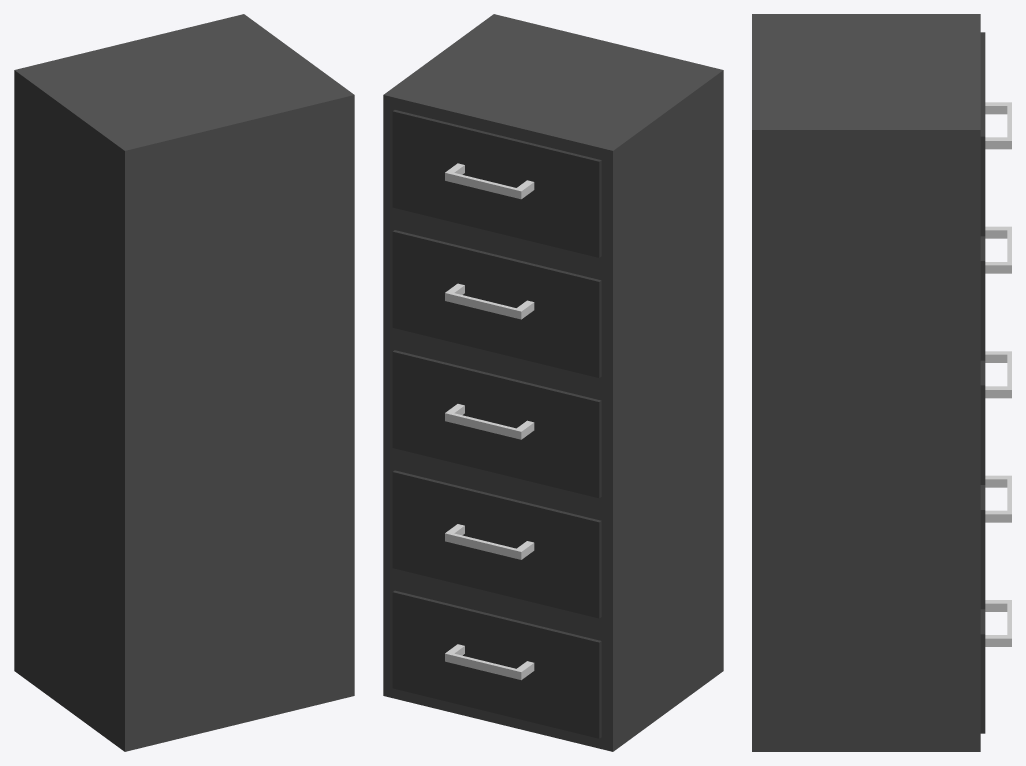
The model's file is TallCabinetTextured_v1.fbx.
3 renders of one model, left to right at view 1: azimuth 30°, elevation 25°; view 2: azimuth 150°, elevation 25°; view 3: azimuth 270°, elevation 25°, orthographic. The views are drawn at different scales.
Parts seen in each view (by area): view 1: Cabinet_Tall; view 2: Cabinet_Tall; view 3: Cabinet_Tall.
Boxes of the visible parts, <box> form: Cabinet_Tall: <box>14,14,354,751</box>; Cabinet_Tall: <box>383,14,723,751</box>; Cabinet_Tall: <box>752,14,1011,751</box>.
Bounding box in the file's own units: 1.5 × 3.75 × 1.42.
